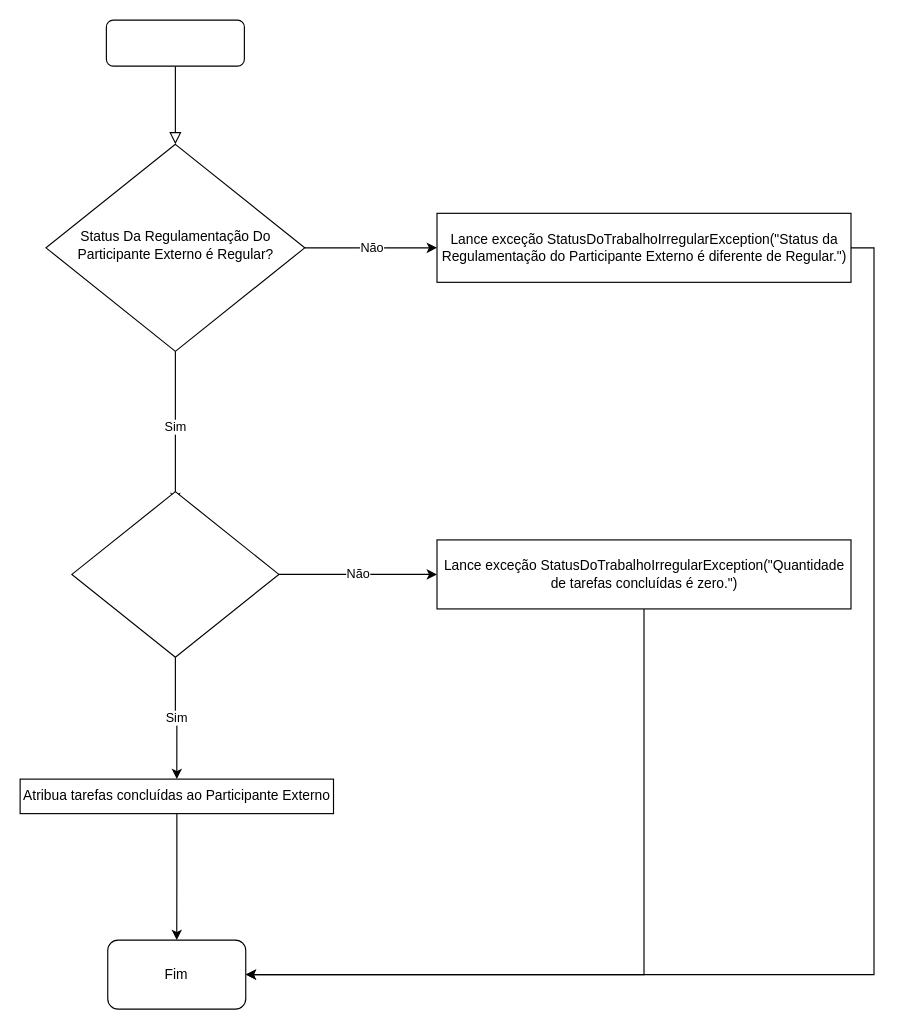
The diagram is 904 pixels wide and 1029 high, and some of its shapes have lost their labels. Here are the shapes that lost their labels. From the top down, the centre of each, then its label:
At (x=174, y=42): "Trabalhar".
At (x=175, y=573): "Quantidade de tarefas concluídas é maior do que zero?".
